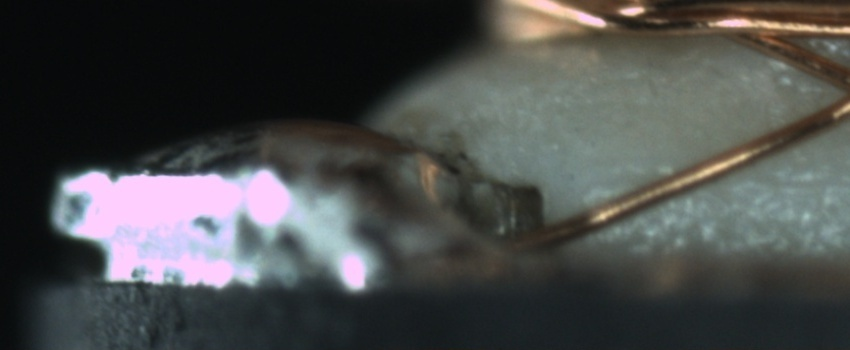DL: (612, 145, 849, 212)
